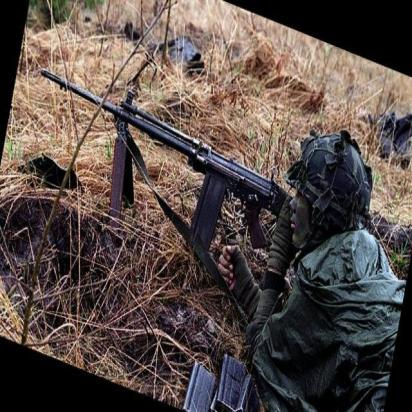Gun: (24, 54, 297, 266)
